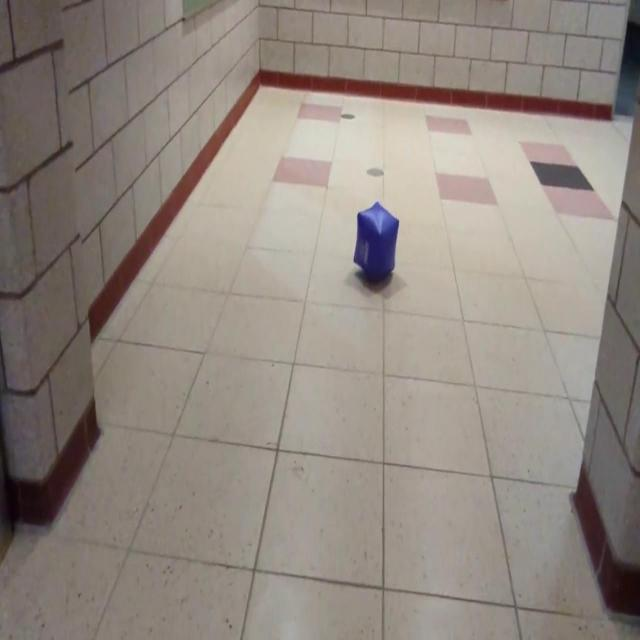frc_cube: (352, 201, 400, 279)
